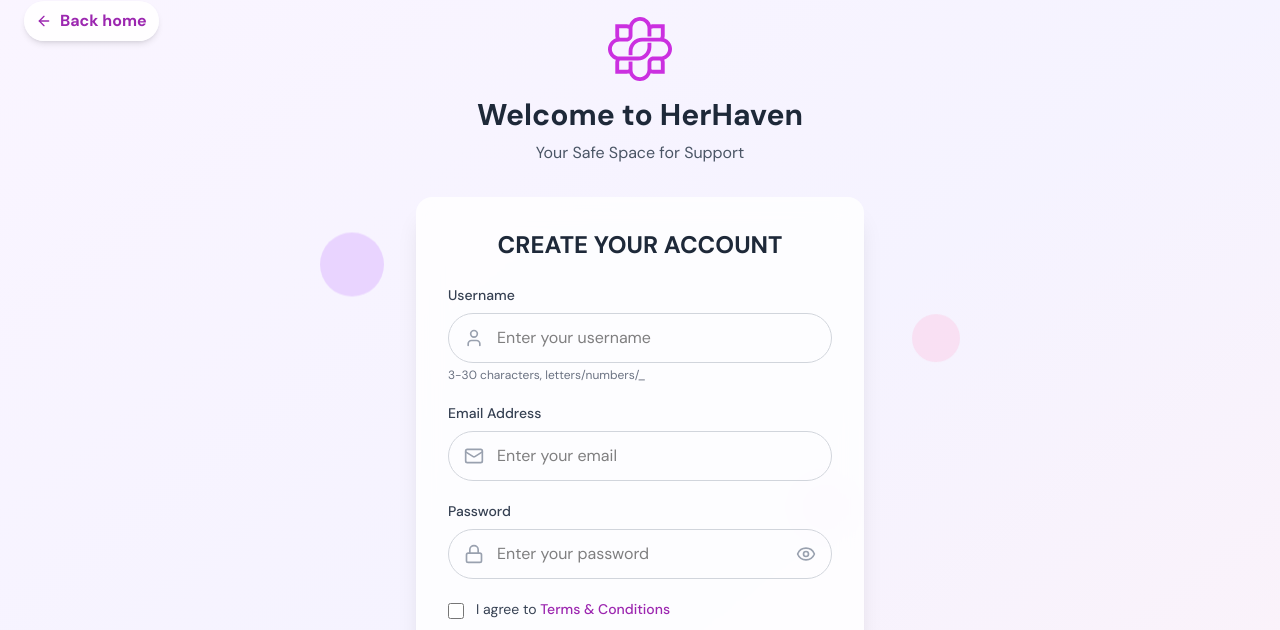
Test: Signup Page › should require terms and conditions acceptance
This screenshot has width=1280, height=630.
Type "testuser" into the field named "username" at (640, 338), box top-left (448, 313), bottom-right (832, 363)
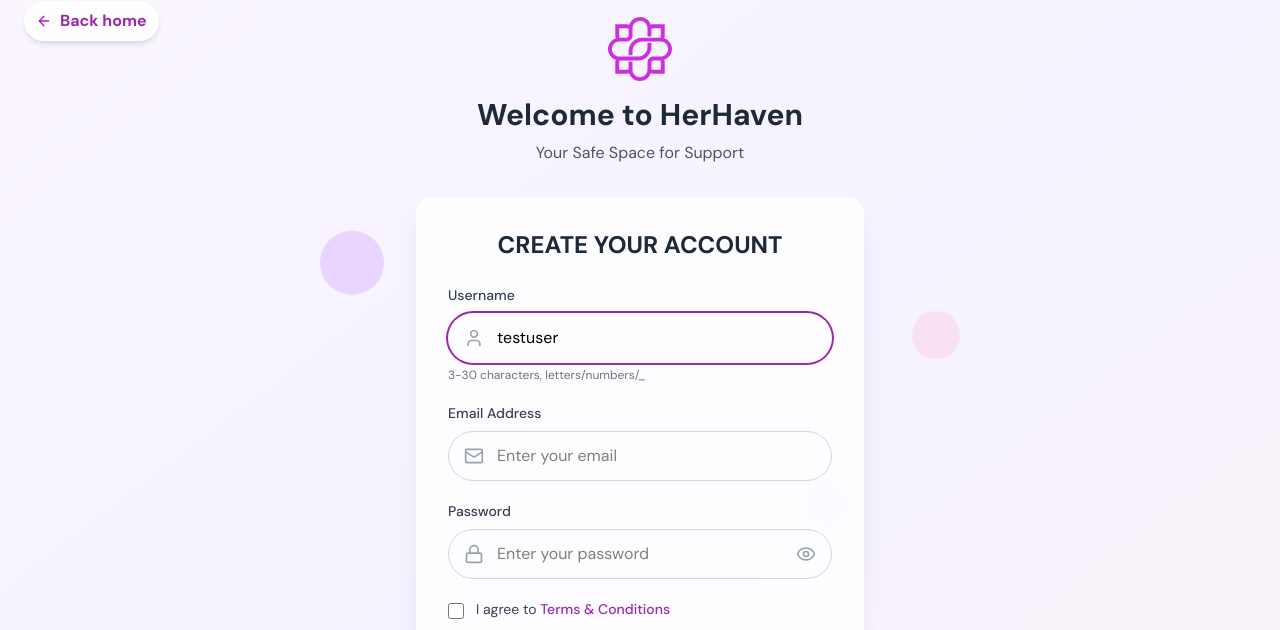
Type "test@example.com" into the field named "email" at (640, 456), box top-left (448, 431), bottom-right (832, 481)
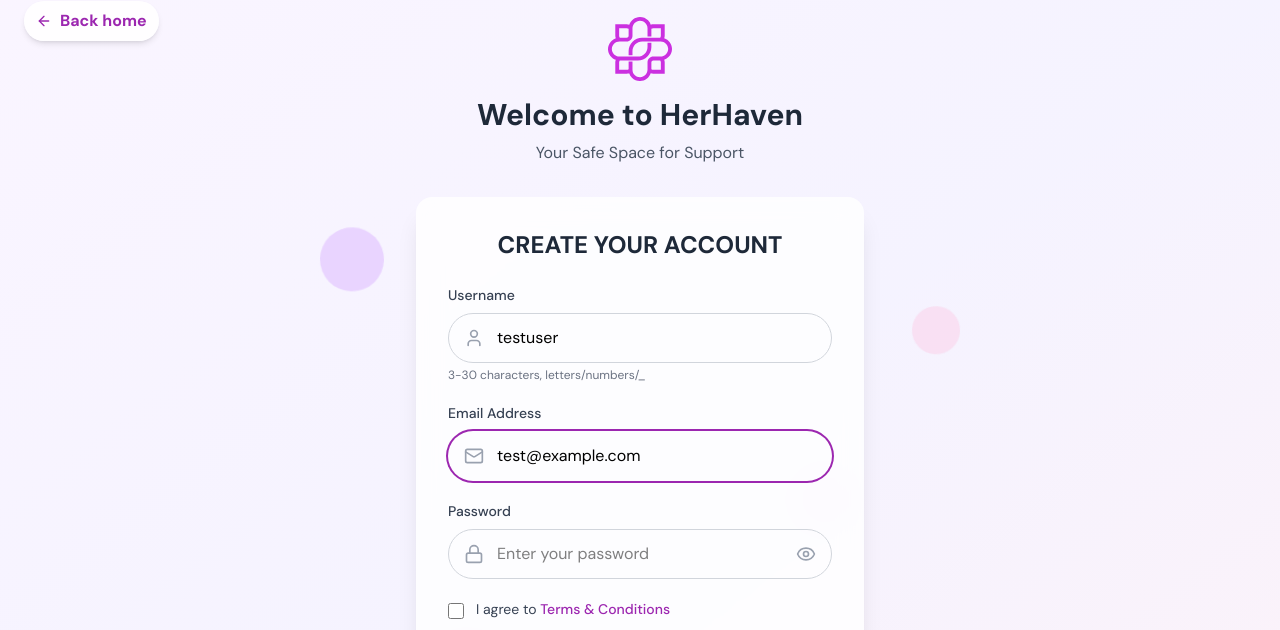
Type "Test123456" into the password field named "password" at (640, 554), box top-left (448, 529), bottom-right (832, 579)
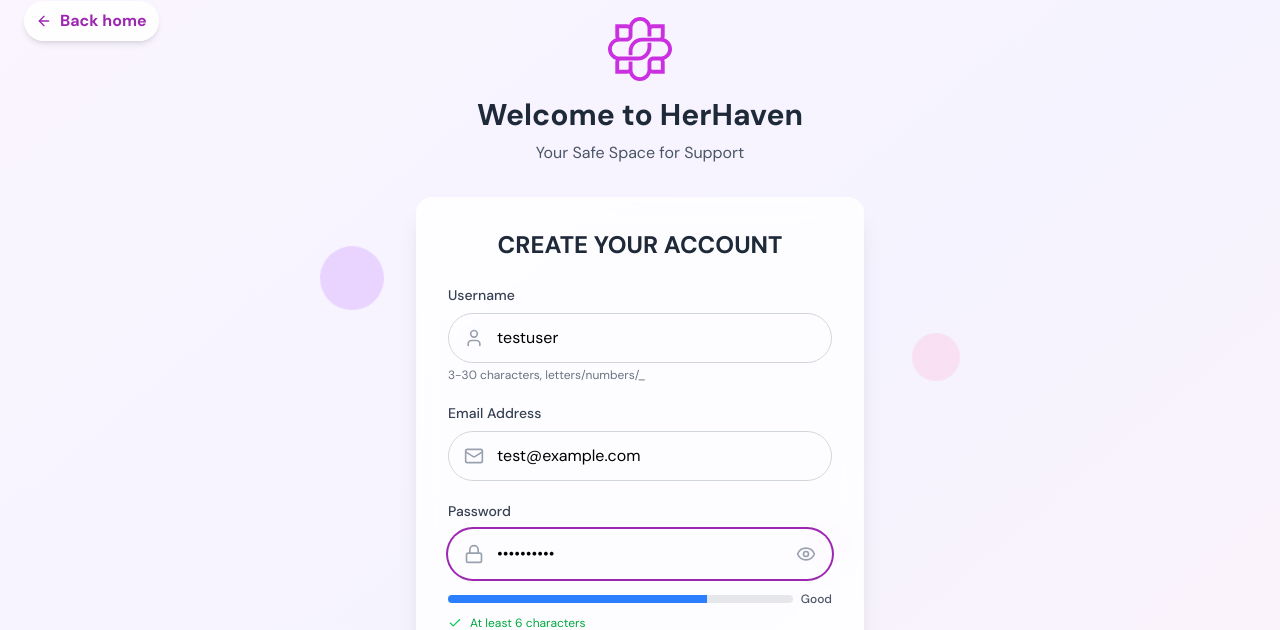
Scroll
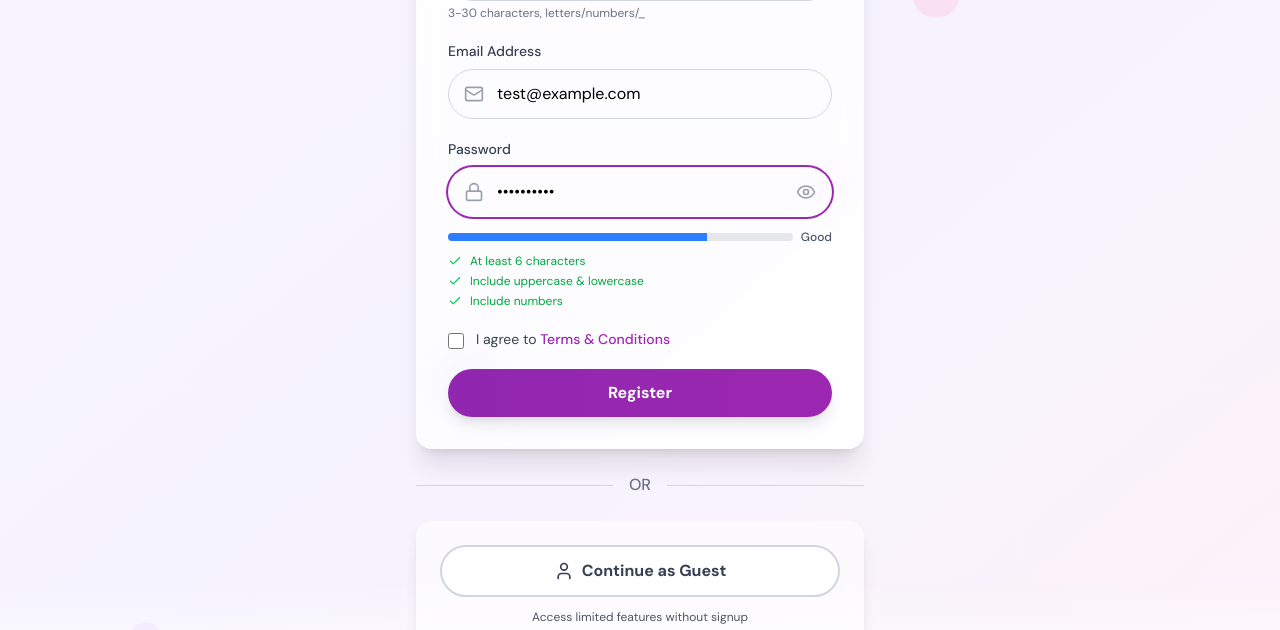
Don't check terms
Click the submit button at (640, 393), box top-left (448, 369), bottom-right (832, 417)
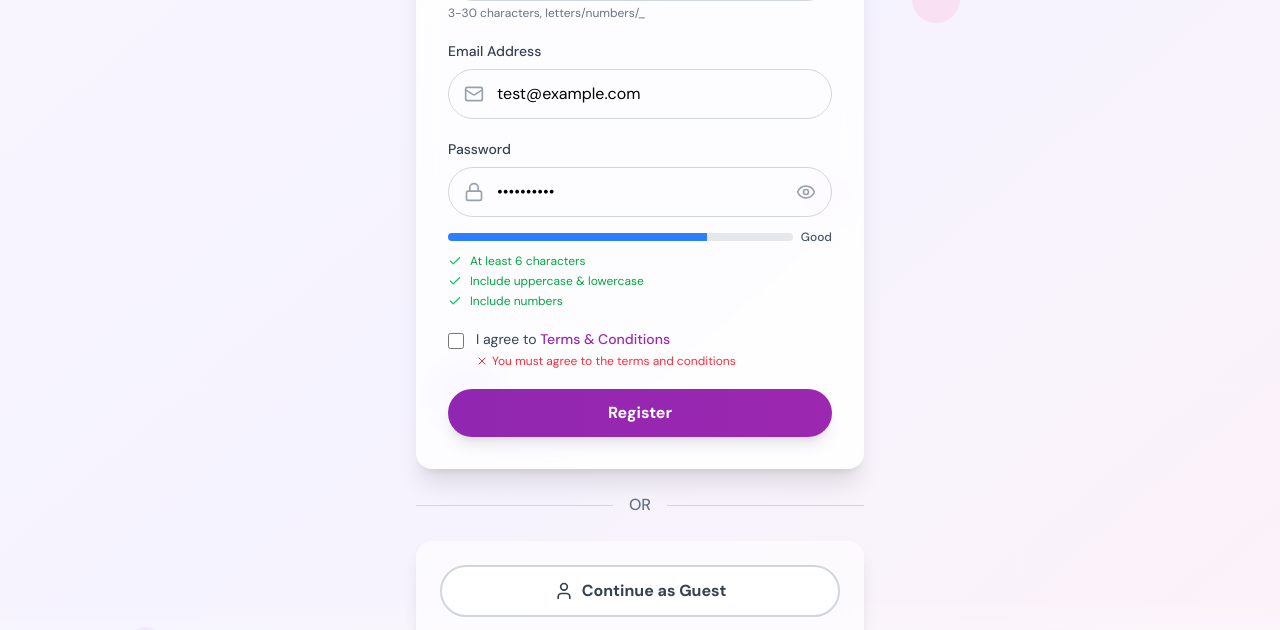
Check: the text "You must agree to the terms and conditions" is shown, box top-left (476, 353), bottom-right (736, 369)
